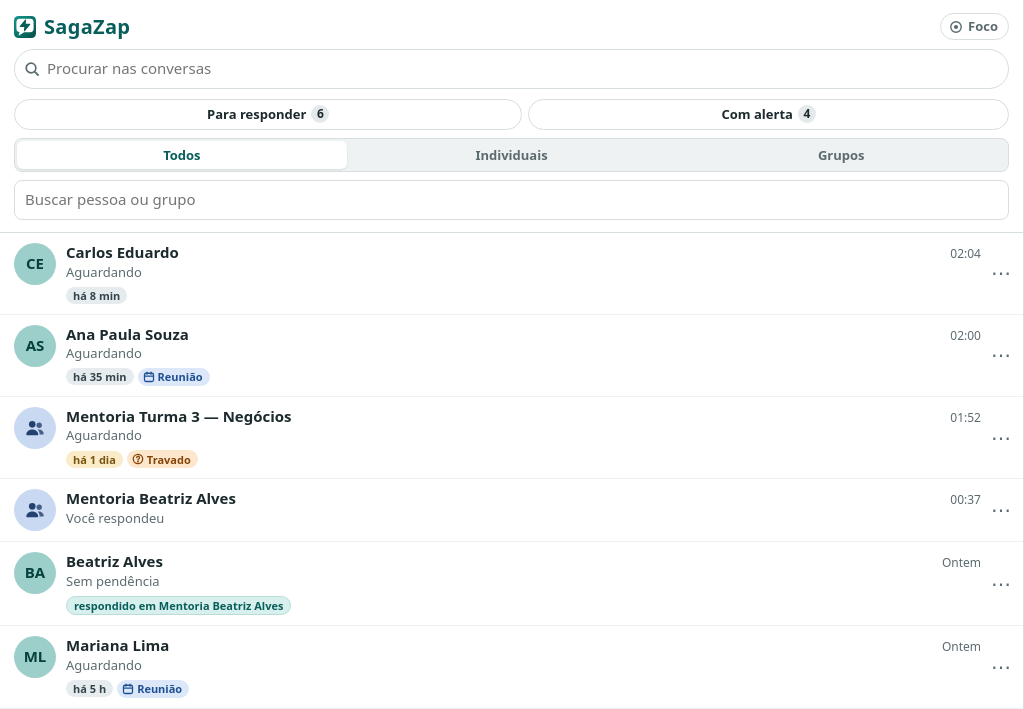
Test: ContactList: "Para responder" e "Com alerta" › Com alerta: mais graves primeiro, depois quem espera há mais tempo; no máximo 2 selos + "+N"
Click the button "Com alerta 4".
click(769, 114)  # box [528,99,1009,130]
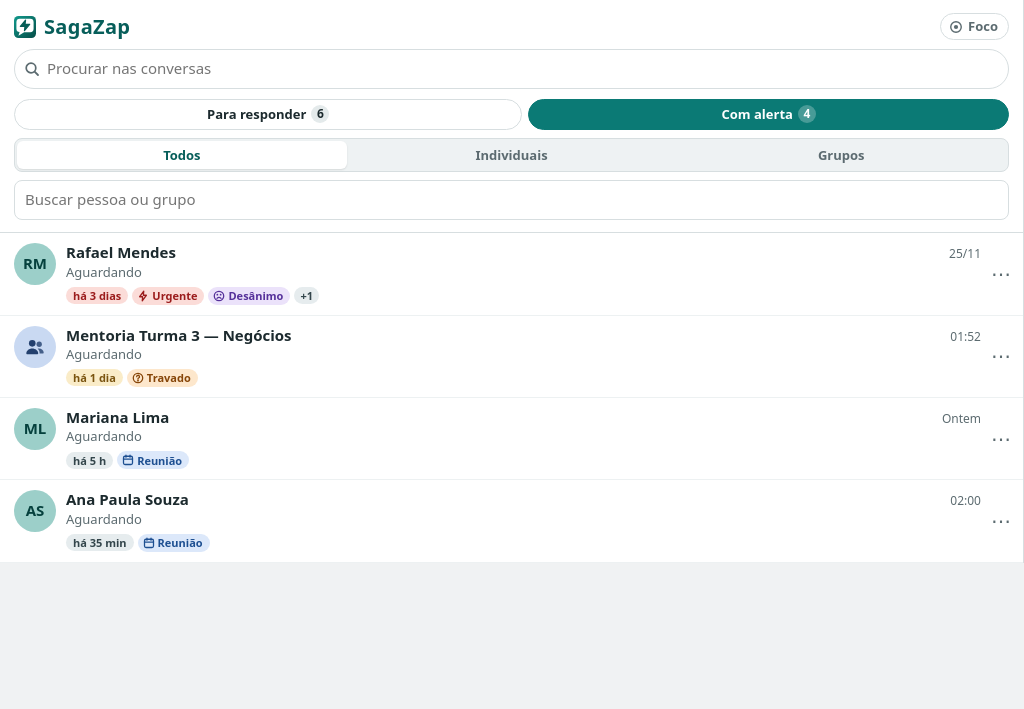
Check: the text "+1" is shown, box [294,287,319,304]
Check: the elements with test id "alert-chip" read "Urgente", "Desânimo", in this order, box [132,286,204,304]; [208,286,290,304]
Check: the elements with test id "alert-chip" read "Reunião", in this order, box [138,534,210,552]
